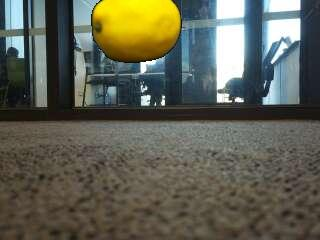lemon: (94, 0, 181, 62)
